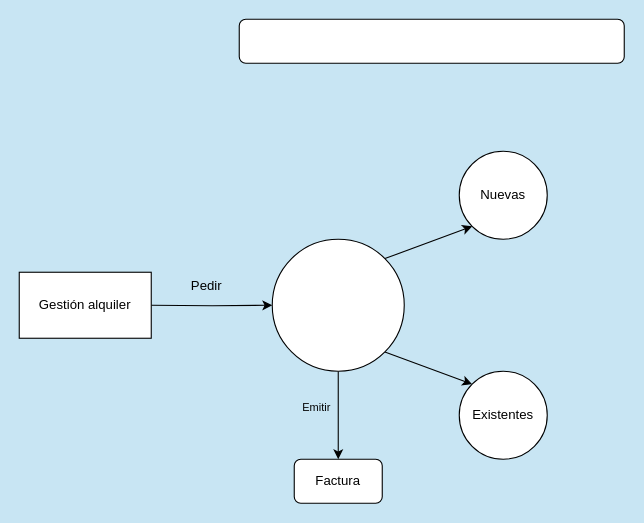
This 644x523 diagram has some shape labels left out. Here are the shapes that lost their labels. From the top down, the centre of each, then its label:
At point (431, 40): "Diagrama 4: Proveedores".
At point (337, 304): "Pedidos de peliculas".
